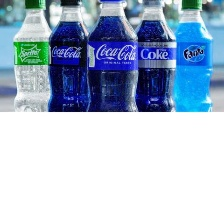bottle: (83, 0, 142, 119), (45, 0, 96, 118), (11, 0, 58, 120), (171, 0, 217, 120), (133, 0, 178, 120)
